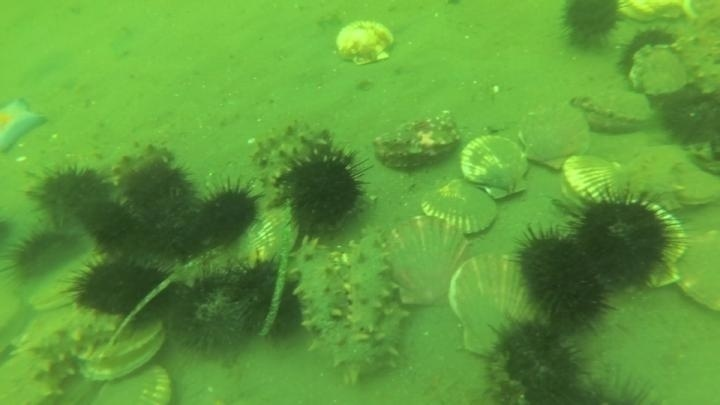echinus: (565, 186, 685, 292), (165, 258, 278, 361), (510, 225, 614, 334), (480, 315, 589, 405), (276, 144, 372, 242), (224, 255, 308, 344), (68, 253, 172, 323), (126, 182, 213, 262), (28, 161, 114, 231), (118, 156, 199, 223), (192, 179, 262, 247), (8, 223, 86, 284), (657, 84, 719, 151), (78, 194, 143, 251), (576, 364, 665, 405), (558, 1, 626, 50), (614, 24, 676, 76)
holothurian: (288, 242, 370, 376), (8, 311, 118, 402), (275, 141, 371, 240), (249, 117, 336, 197), (341, 225, 397, 338), (669, 5, 720, 101), (98, 138, 178, 188), (1, 148, 46, 234)
scallop: (444, 251, 548, 360), (383, 217, 473, 311), (601, 195, 717, 266), (629, 129, 720, 216), (61, 313, 157, 384), (3, 244, 99, 315), (515, 100, 592, 171), (418, 175, 500, 238), (232, 200, 301, 271), (458, 133, 531, 200), (557, 151, 633, 211), (672, 226, 719, 317), (574, 86, 656, 137), (627, 44, 692, 101), (95, 362, 175, 405), (332, 18, 398, 68), (616, 1, 699, 29)
starfish: (1, 96, 49, 155)
